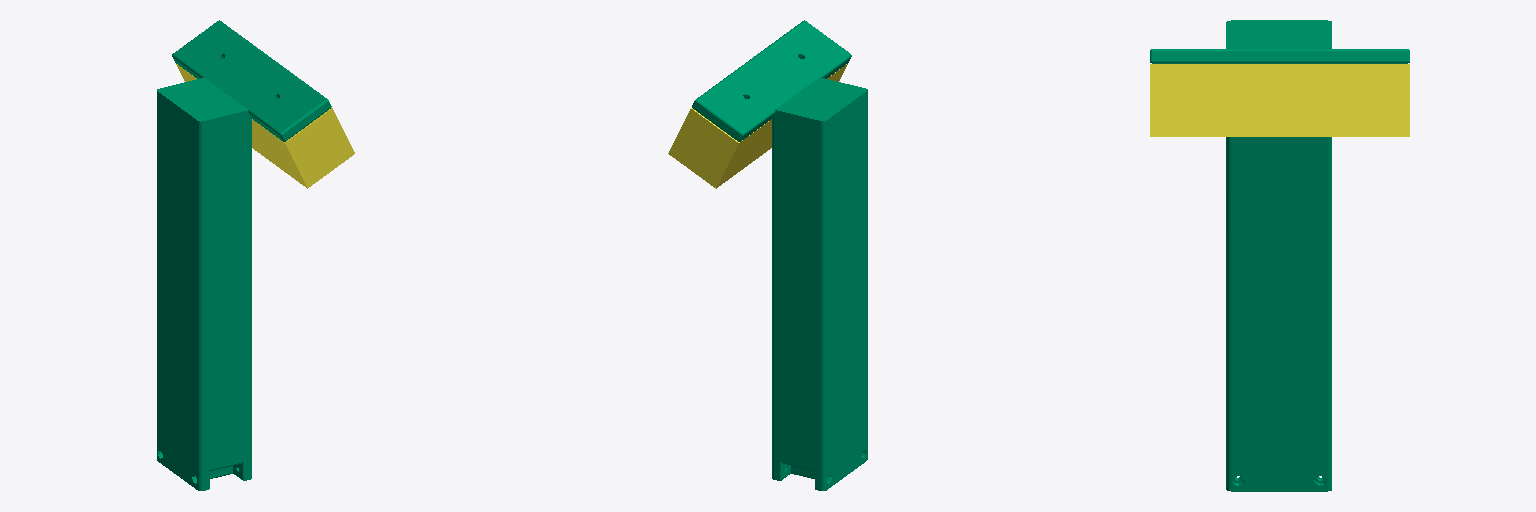
The robot description file, URDF, robot "sweepick_received_candidate_ICP_ESTIMATE":
<?xml version='1.0' encoding='utf-8'?>
<robot name="sweepick_received_candidate_ICP_ESTIMATE">
  <!-- Optical TF reproduces an empirical base-to-optical ICP profile. Body-relative transform is algebraically derived from candidate CAD, NOT independently measured. -->
  <link name="base_footprint" />
  <link name="mount_bottom">
    <visual>
      <geometry>
        <mesh filename="meshes/MOUNTBOTTM2_0_m.stl" scale="1 1 1" />
      </geometry>
    </visual>
    <collision>
      <geometry>
        <mesh filename="meshes/MOUNTBOTTM2_0_m.stl" scale="1 1 1" />
      </geometry>
    </collision>
  </link>
  <link name="mount_top">
    <visual>
      <geometry>
        <mesh filename="meshes/cam_mount_top2_0_m.stl" scale="1 1 1" />
      </geometry>
    </visual>
    <collision>
      <geometry>
        <mesh filename="meshes/cam_mount_top2_0_m.stl" scale="1 1 1" />
      </geometry>
    </collision>
    <visual>
      <geometry>
        <mesh filename="meshes/cam_mount_top2_1_m.stl" scale="1 1 1" />
      </geometry>
    </visual>
    <collision>
      <geometry>
        <mesh filename="meshes/cam_mount_top2_1_m.stl" scale="1 1 1" />
      </geometry>
    </collision>
  </link>
  <joint name="mount_bottom_joint" type="fixed">
    <parent link="base_footprint" />
    <child link="mount_bottom" />
    <origin xyz="-0.06 0 0.123" rpy="0 0 0" />
  </joint>
  <joint name="mount_top_joint" type="fixed">
    <parent link="mount_bottom" />
    <child link="mount_top" />
    <origin xyz="0 0 0.223712455749511" rpy="0 0 0" />
  </joint>
  <link name="camera_link">
    <visual>
      <origin xyz=".01275 0 0" />
      <geometry>
        <box size=".0255 .09 .025" />
      </geometry>
    </visual>
    <collision>
      <origin xyz=".01275 0 0" />
      <geometry>
        <box size=".0255 .09 .025" />
      </geometry>
    </collision>
  </link>
  <joint name="camera_body_joint" type="fixed">
    <parent link="mount_top" />
    <child link="camera_link" />
    <origin xyz="0.0236973822467175 0.0001870002746582 0.16817842666893" rpy="0 1.13446401379631 0" />
  </joint>
  <link name="camera_optical_frame" />
  <joint name="camera_optical_joint" type="fixed">
    <parent link="camera_link" />
    <child link="camera_optical_frame" />
    <origin xyz="0.0268423178052361 0.026429270892406 -0.0104437236807511" rpy="-1.57949972555298 -0.0643792371924815 -1.57576581255973" />
  </joint>
</robot>

--- What the picture shows (computed from the rendered views, not written in the file) ---
3 views of the same robot in one strip: view 1: azimuth 30°, elevation 25°; view 2: azimuth 150°, elevation 25°; view 3: azimuth 270°, elevation 25° (orthographic).
Model sweepick_received_candidate_ICP_ESTIMATE with 5 links and 4 joints (4 fixed), rooted at base_footprint, posed every joint at zero.
Links seen in each view (by area): view 1: mount_top, camera_link; view 2: mount_top, camera_link; view 3: mount_top, camera_link.
Boxes of the visible links, x1,y1,x2,y2 form: mount_top: (157,20,331,490); camera_link: (176,64,354,188); mount_top: (692,20,867,490); camera_link: (668,64,847,188); mount_top: (1150,20,1409,491); camera_link: (1150,64,1409,136).
Bounding box of the posed robot: 0.0585 × 0.09 × 0.1778 m (x, y, z).
Meshes: 3 distinct files referenced, 2 mesh visuals loaded (2 binary STL); not drawn: 1 (reference not matched to a file when rendering).
